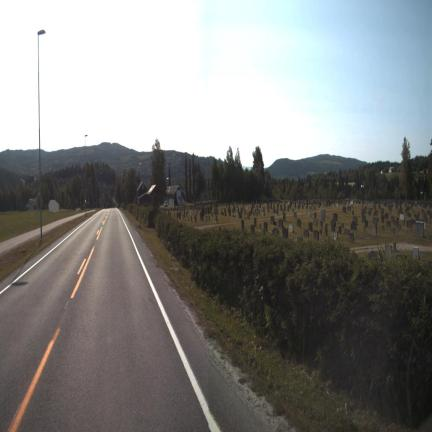Road: (0, 210, 266, 430)
